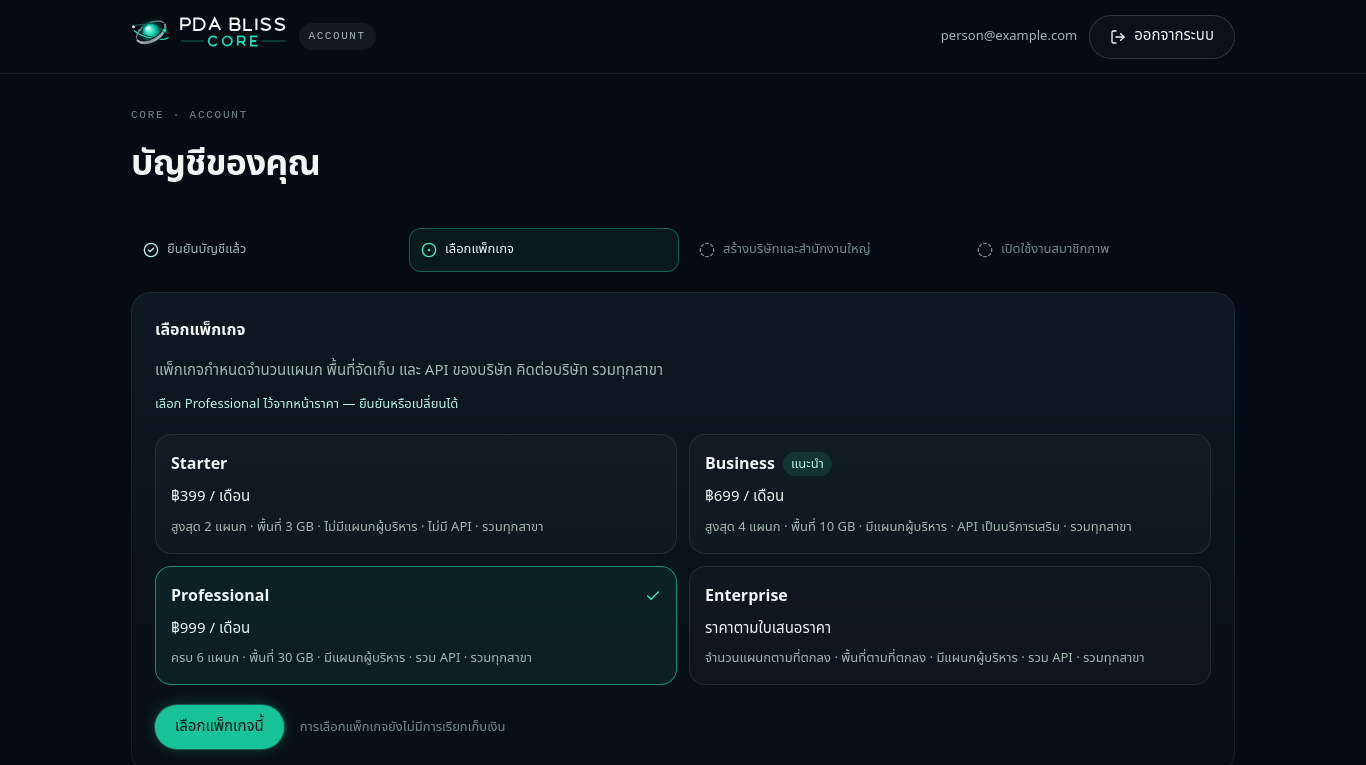
Test: package selection › carries the plan from the pricing page and saves the API plan code
Expected: the text "เลือก Professional ไว้จากหน้าราคา — ยืนยันหรือเปลี่ยนได้" is shown, [155,394,458,414]
Expected: the radio button labelled "Professional" is checked, [155,566,677,685]
What coordinates should you click on to do the following:
click the button "เลือกแพ็กเกจนี้"
I would click on:
 (219, 727)
Its box is [155,705,284,749].
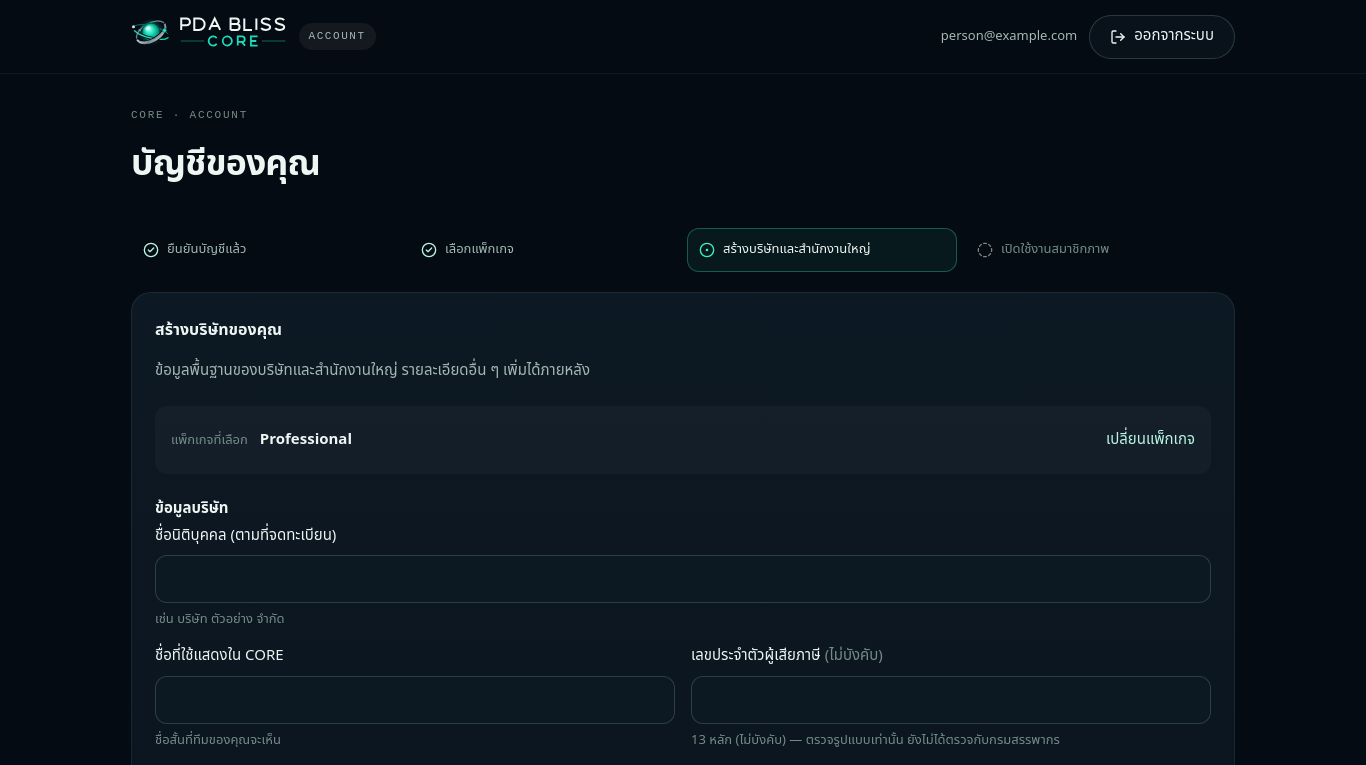
Expected: the heading "สร้างบริษัทของคุณ" is shown, [155,316,282,344]
